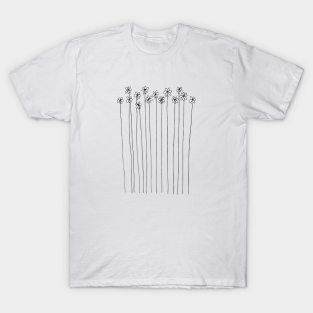design: (116, 84, 198, 196)
